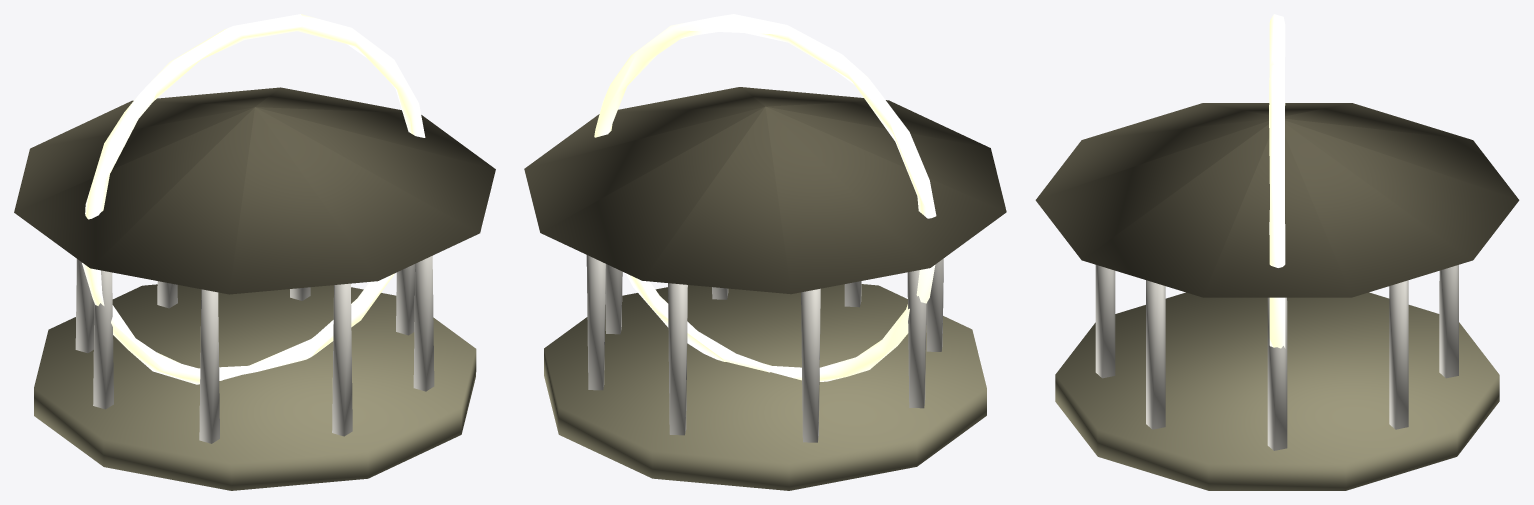
File: SM_Warmerdamm_Bandstand_LOD3.fbx
3 renders of one model, left to right at view 1: azimuth 30°, elevation 25°; view 2: azimuth 150°, elevation 25°; view 3: azimuth 270°, elevation 25°, orthographic.
Parts seen in each view (by area): view 1: SM_Warmerdamm_Bandstand_LOD3; view 2: SM_Warmerdamm_Bandstand_LOD3; view 3: SM_Warmerdamm_Bandstand_LOD3.
Part boxes in pixels (bbox=[...]): SM_Warmerdamm_Bandstand_LOD3: bbox=[14, 14, 495, 490]; SM_Warmerdamm_Bandstand_LOD3: bbox=[524, 14, 1006, 490]; SM_Warmerdamm_Bandstand_LOD3: bbox=[1035, 14, 1519, 490].
Size of the model in its own units: 4.55 by 4.03 by 4.79.
